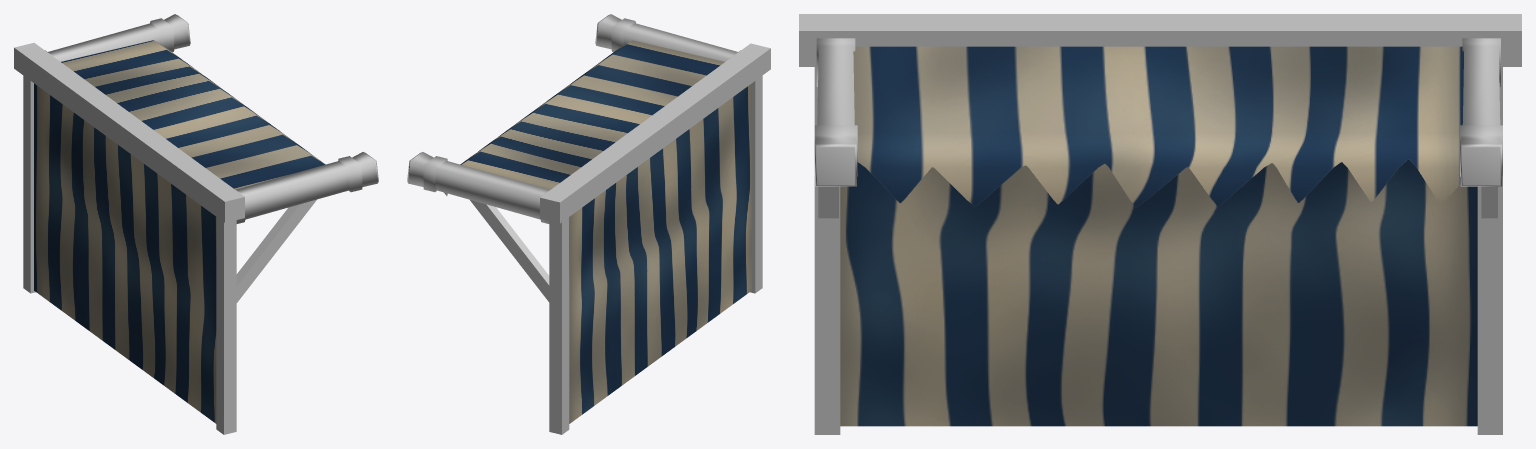
The model's file is M_Stall_Blue.fbx.
3 renders of one model, left to right at view 1: azimuth 30°, elevation 25°; view 2: azimuth 150°, elevation 25°; view 3: azimuth 270°, elevation 25°, orthographic. The views are drawn at different scales.
Parts seen in each view (by area): view 1: M_Stall_Blue; view 2: M_Stall_Blue; view 3: M_Stall_Blue.
Part boxes in pixels (x1,y1,x2,y2): M_Stall_Blue: (14,14,378,434); M_Stall_Blue: (407,14,770,434); M_Stall_Blue: (799,14,1521,434).
Size of the model in its own units: 2.99 by 4.25 by 6.83.
